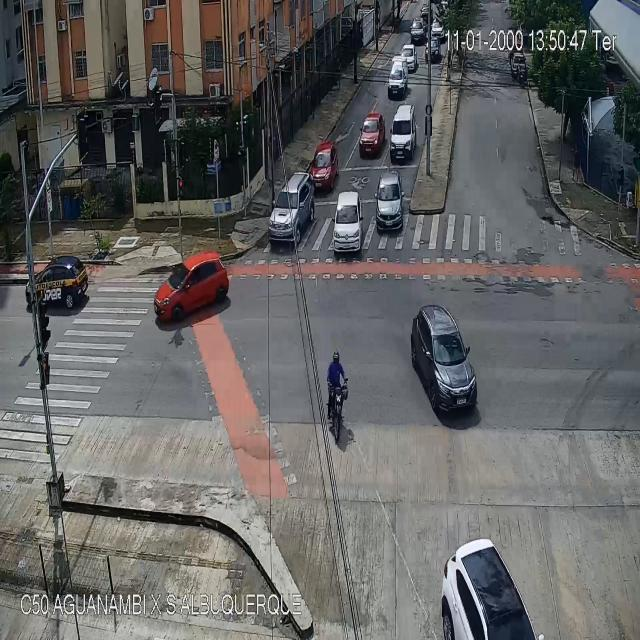Car: (443, 538, 541, 639), (409, 305, 478, 420), (151, 253, 228, 322), (26, 255, 90, 309), (270, 170, 316, 245), (374, 171, 405, 236), (334, 192, 363, 254), (391, 104, 414, 162), (312, 143, 336, 189), (359, 112, 384, 153), (387, 61, 408, 97), (401, 43, 417, 73), (410, 17, 427, 45), (431, 18, 444, 44), (510, 52, 525, 74), (425, 38, 438, 62), (421, 5, 431, 19)
Motorcycle: (327, 351, 346, 443), (516, 64, 522, 85)
